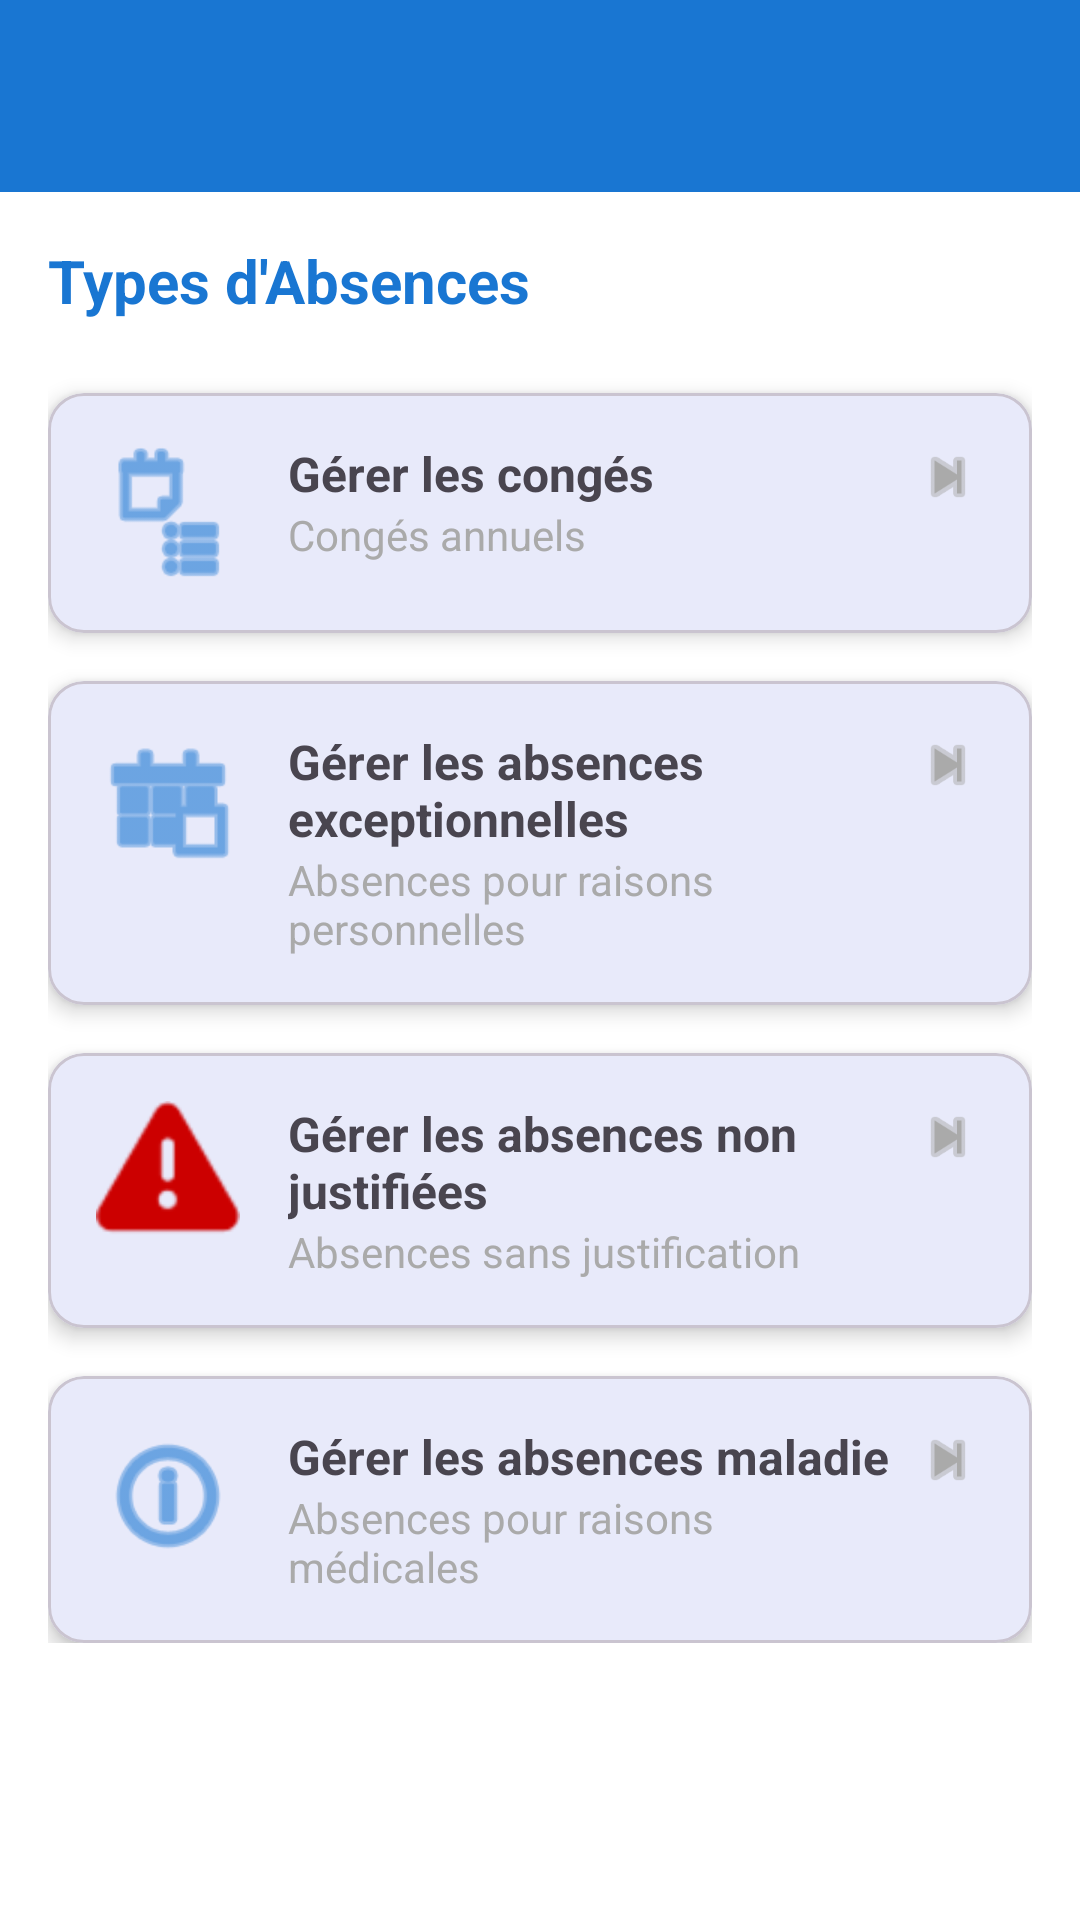

Icon bounding boxes for this 1080w x 1920h phone screenshot, format (x1, y1, x2, y2):
agenda: (118, 448, 219, 576)
alert: (96, 1101, 240, 1233)
info details: (116, 1444, 220, 1548)
next: (931, 457, 965, 497), (931, 745, 965, 785), (931, 1117, 965, 1157), (931, 1440, 965, 1480)
today: (110, 748, 229, 858)
